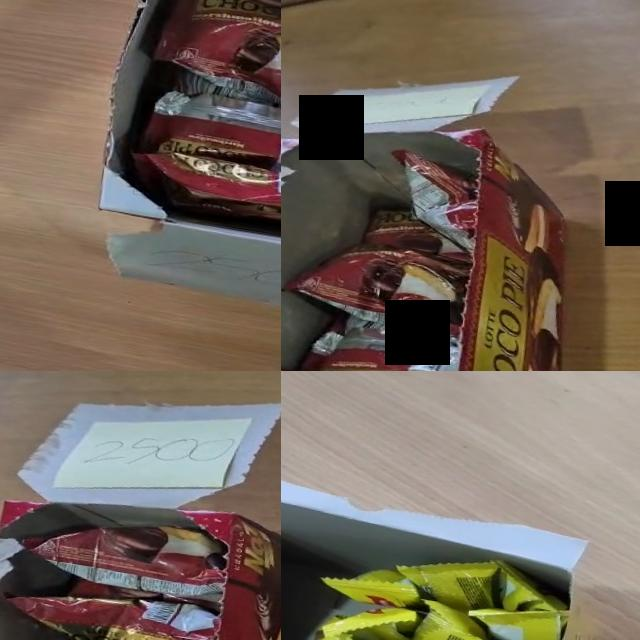Ahh: (389, 547, 504, 615), (318, 558, 430, 614), (487, 560, 574, 621), (462, 594, 569, 640), (320, 596, 424, 640), (403, 597, 504, 640)
Chocopie: (281, 232, 474, 341), (146, 0, 281, 135), (134, 84, 281, 198), (22, 520, 226, 602), (123, 145, 281, 243), (378, 147, 486, 254), (300, 309, 462, 371), (8, 597, 216, 640), (171, 65, 281, 140), (360, 204, 478, 266)
